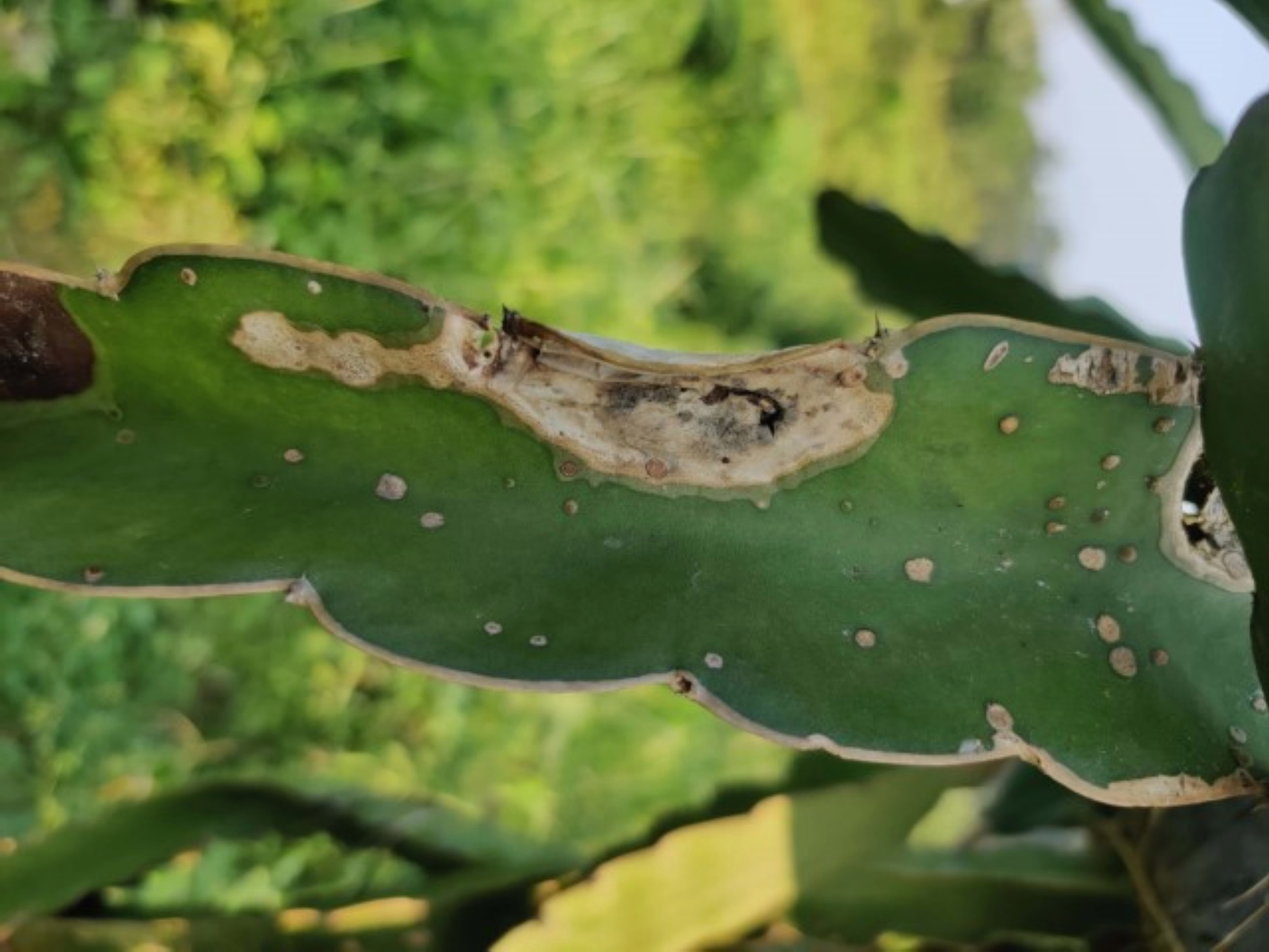stemcanker: (224, 203, 1261, 673)
